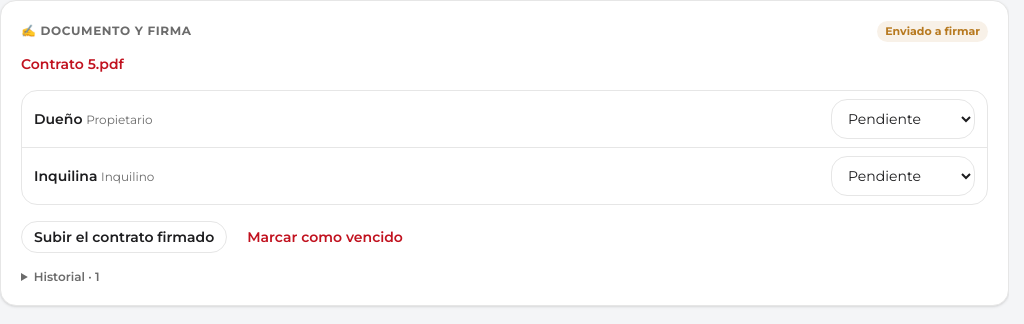
Test: FirmaContrato › marcar quién firmó y guardar manda solo los cambios
Select "Firmó" in the dropdown named "Firma de Dueño" at (903, 118), box [831,98,975,138]
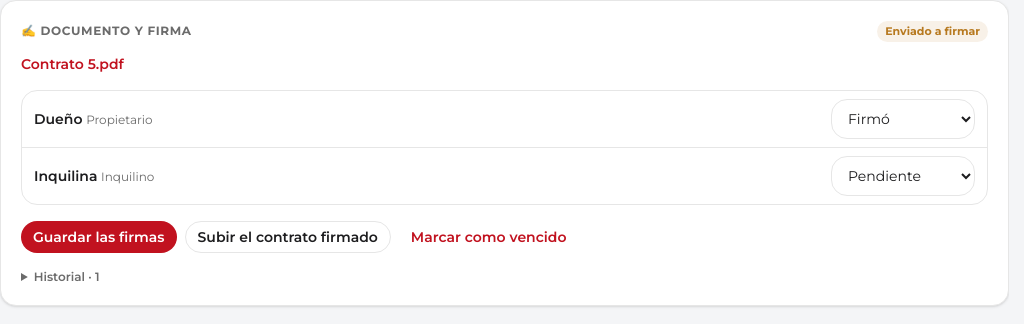
Click the button "Guardar las firmas" at (99, 236), box [21,220,177,252]
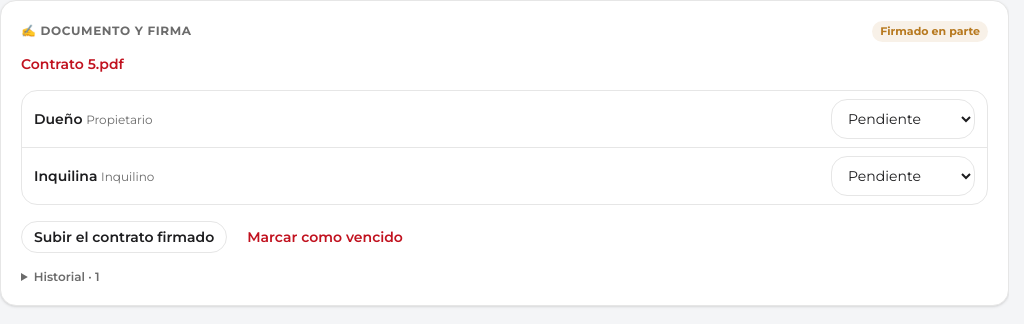
Check: the text "Firmado en parte" is shown, box [872,21,988,42]
